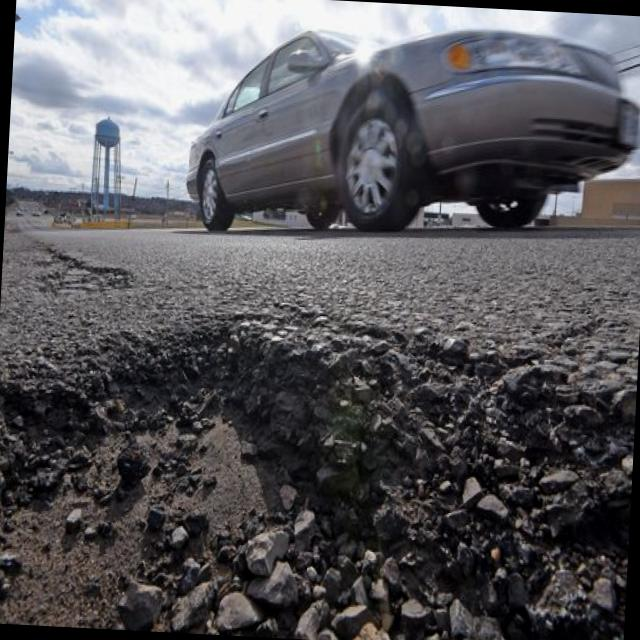bad-road: (0, 303, 639, 640), (2, 233, 136, 300)
